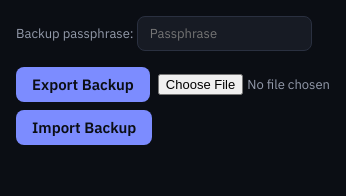
Test: BackupPanel UI › import without file shows error
In the password field with placeholder "passphrase": (224, 34) x1=137 y1=16 x2=312 y2=51, type "pass"
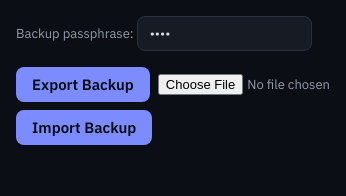
Click the button "Import Backup": (84, 128) x1=16 y1=110 x2=152 y2=145
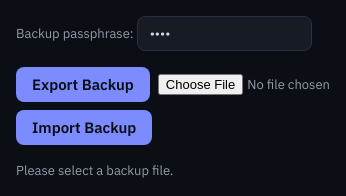
Result: the text "Please select a backup file." is shown at x1=16 y1=162 x2=173 y2=179
